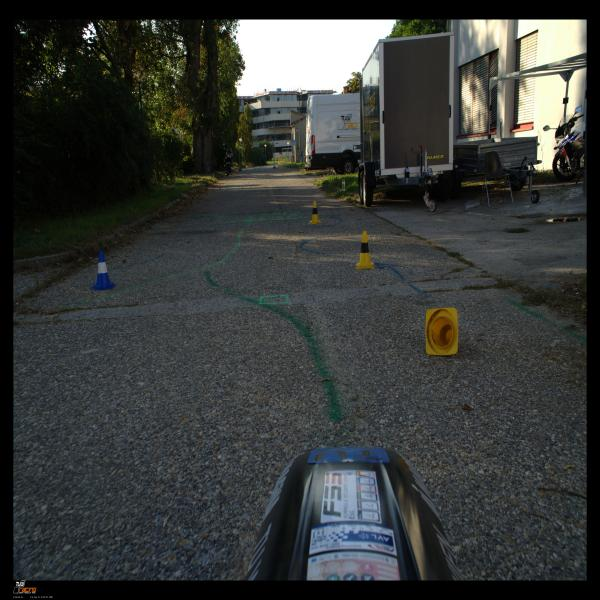blue_cone: (92, 250, 115, 290)
yellow_cone: (426, 308, 458, 355), (356, 231, 374, 269), (308, 201, 323, 224)
